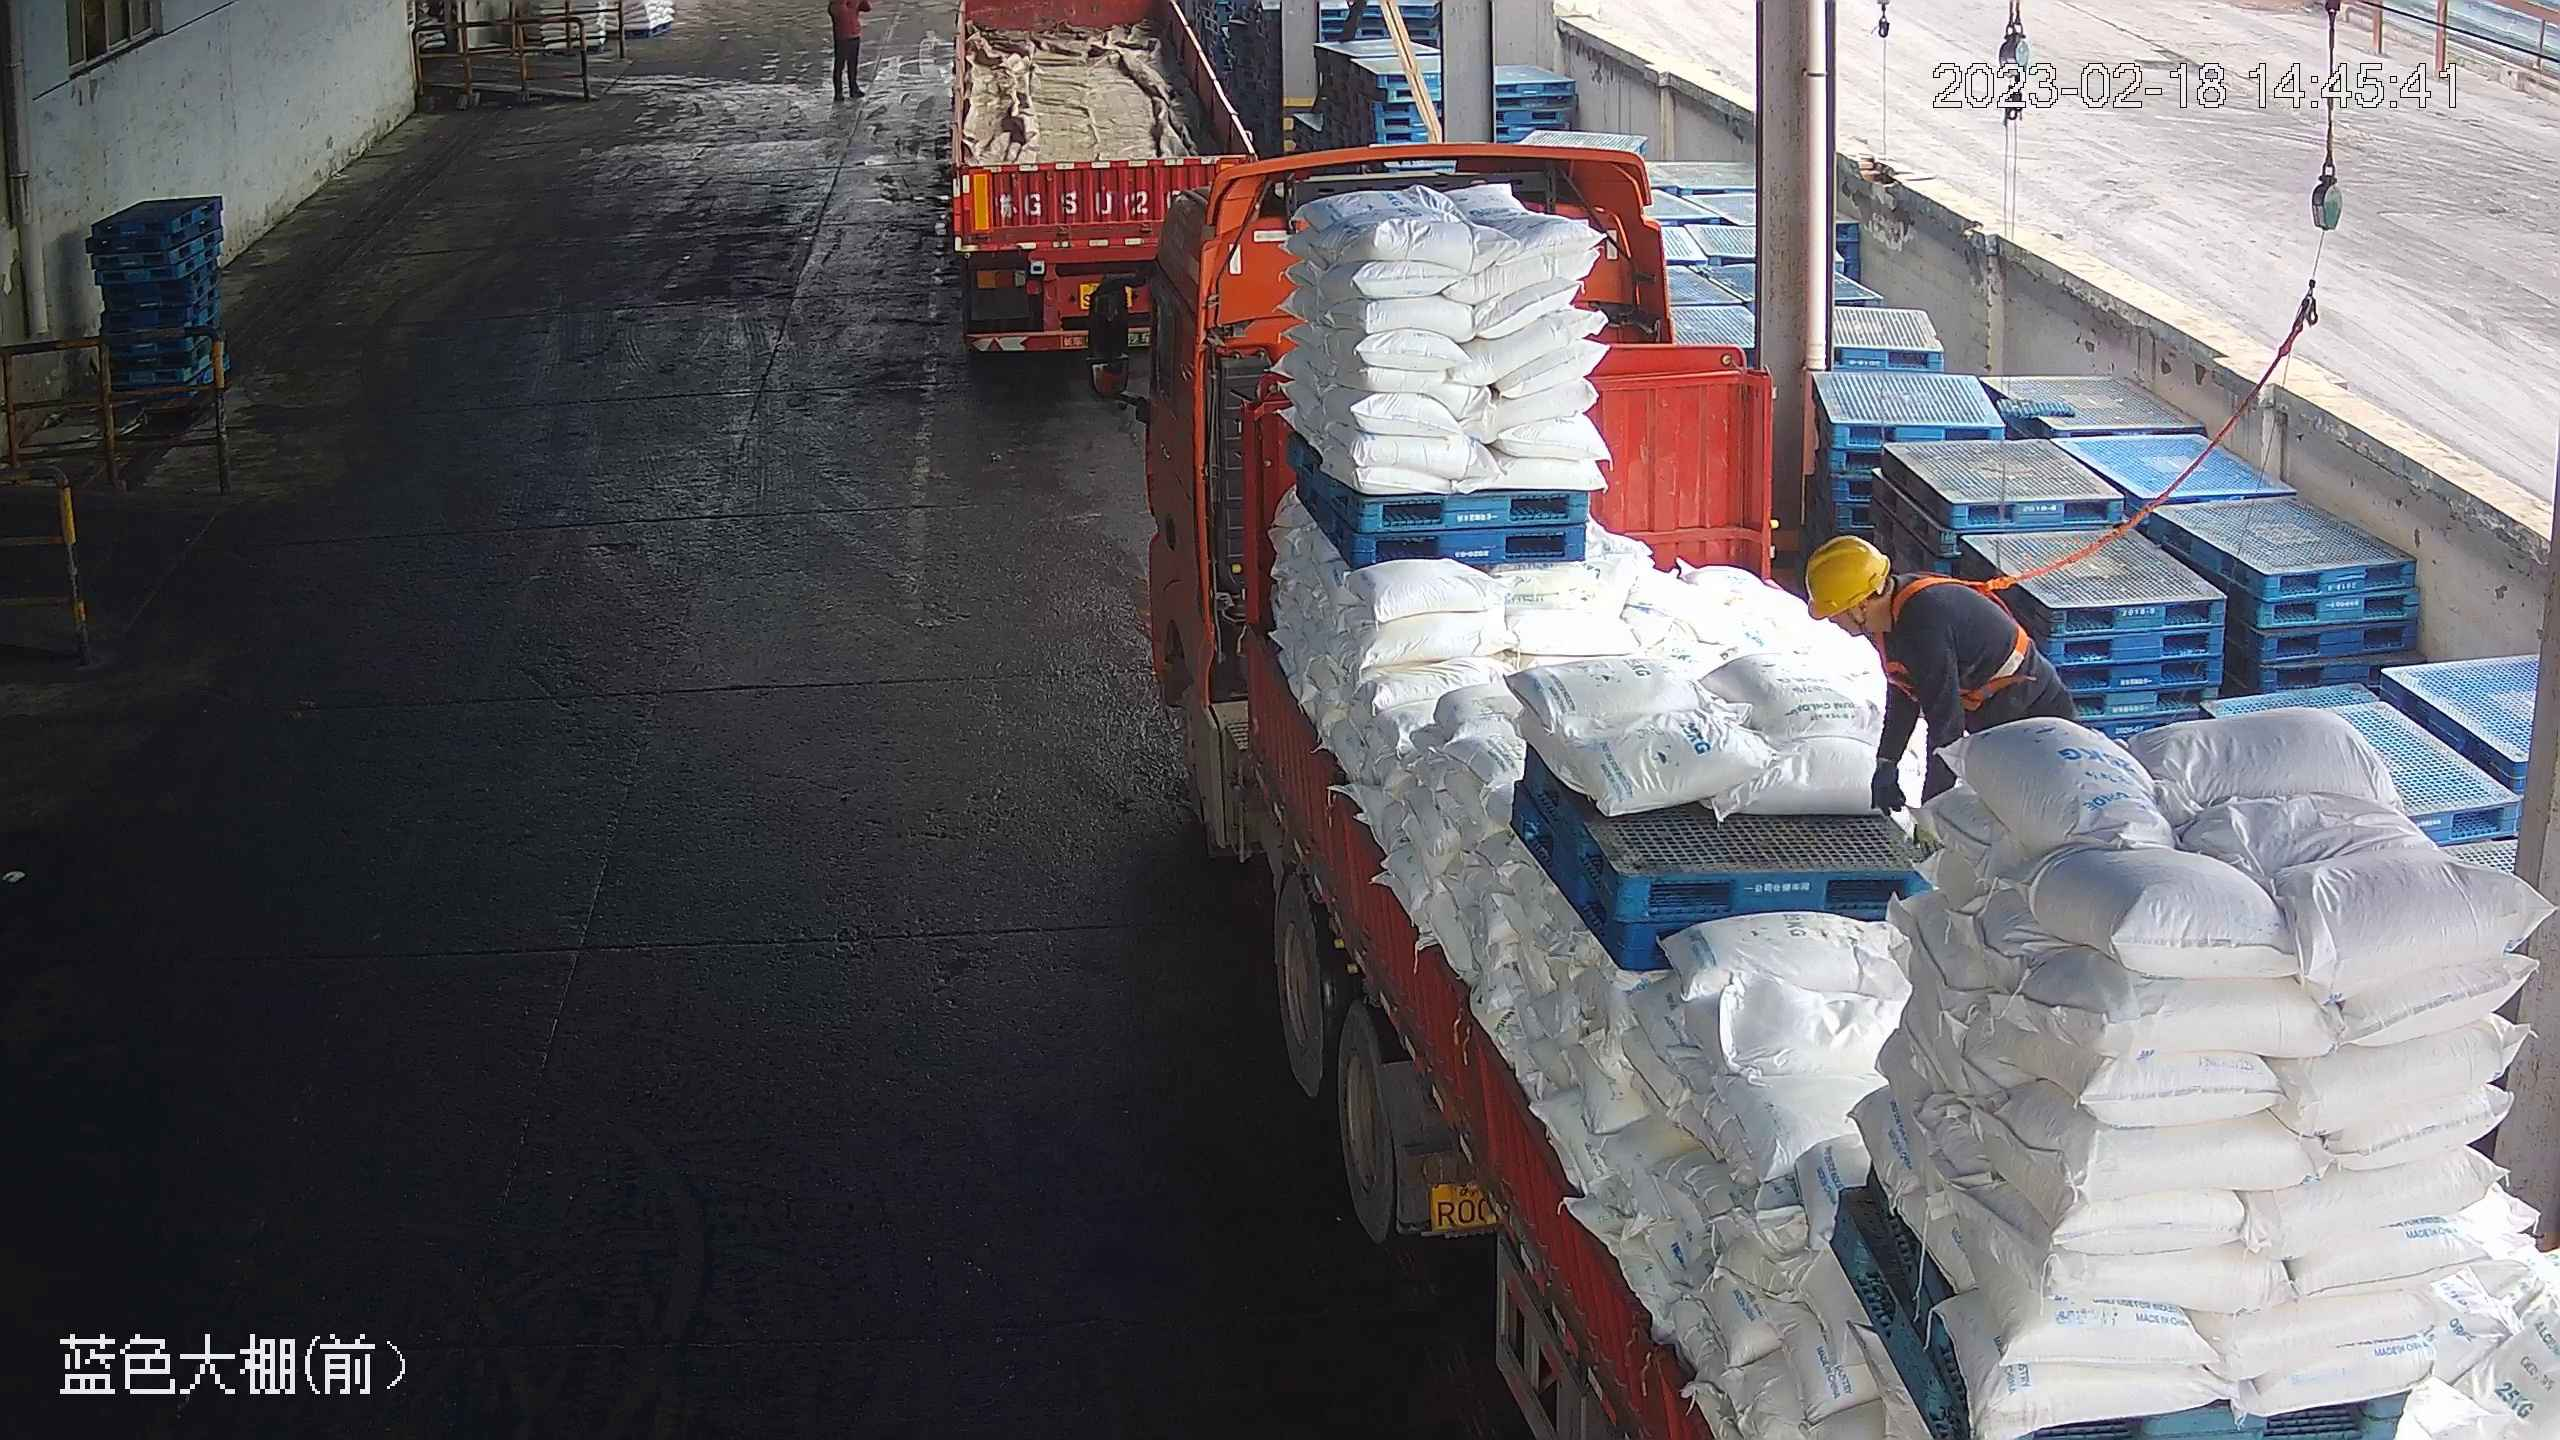belt: (1886, 567, 2041, 702)
head: (1804, 533, 1976, 668)
helmet: (1802, 532, 1891, 620)
people: (1803, 532, 2081, 822)
truck: (1086, 139, 2556, 1433), (948, 1, 1262, 356)
